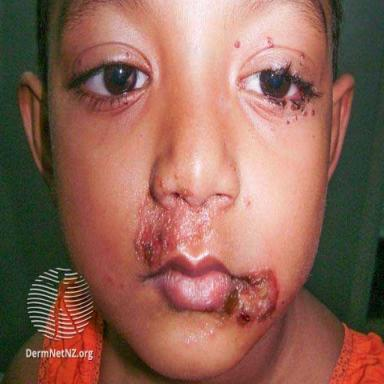Impetigo: (132, 172, 235, 268), (205, 265, 280, 329), (286, 94, 319, 126), (268, 97, 287, 109)
